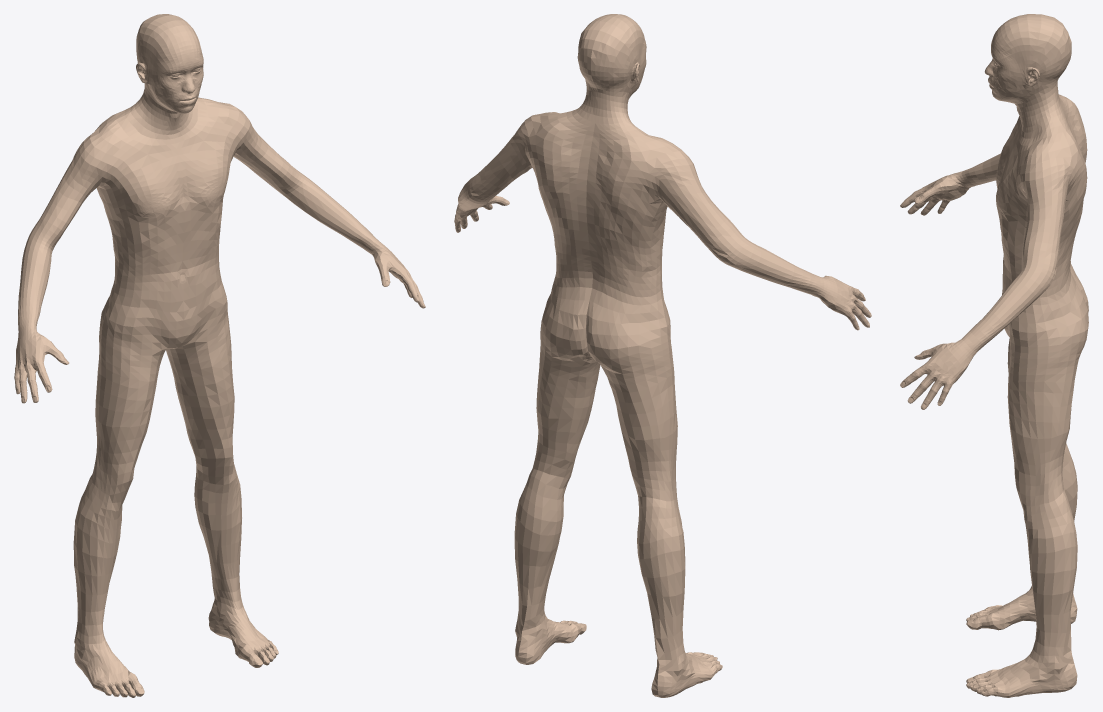
The model's file is male-adult-lean-medium.glb.
3 views of the same model, side by side, from view 1: azimuth 30°, elevation 25°; view 2: azimuth 150°, elevation 25°; view 3: azimuth 270°, elevation 25° (orthographic).
Visible parts, largest first — view 1: world; view 2: world; view 3: world.
Boxes of the visible parts, x1,y1,x2,y2 form: world: (14,14,425,697); world: (454,14,871,697); world: (900,14,1088,697).
Size of the model in its own units: 1.28 by 1.95 by 0.5201.
